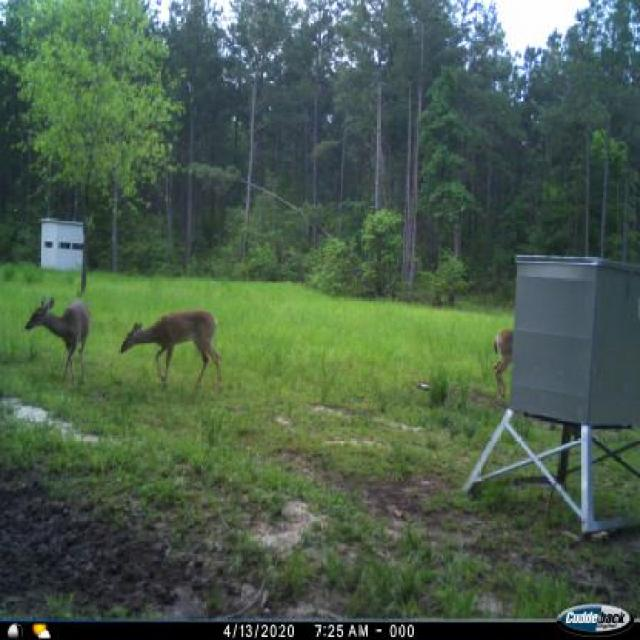Deer: (117, 306, 228, 405), (23, 293, 99, 395), (492, 322, 513, 406)
